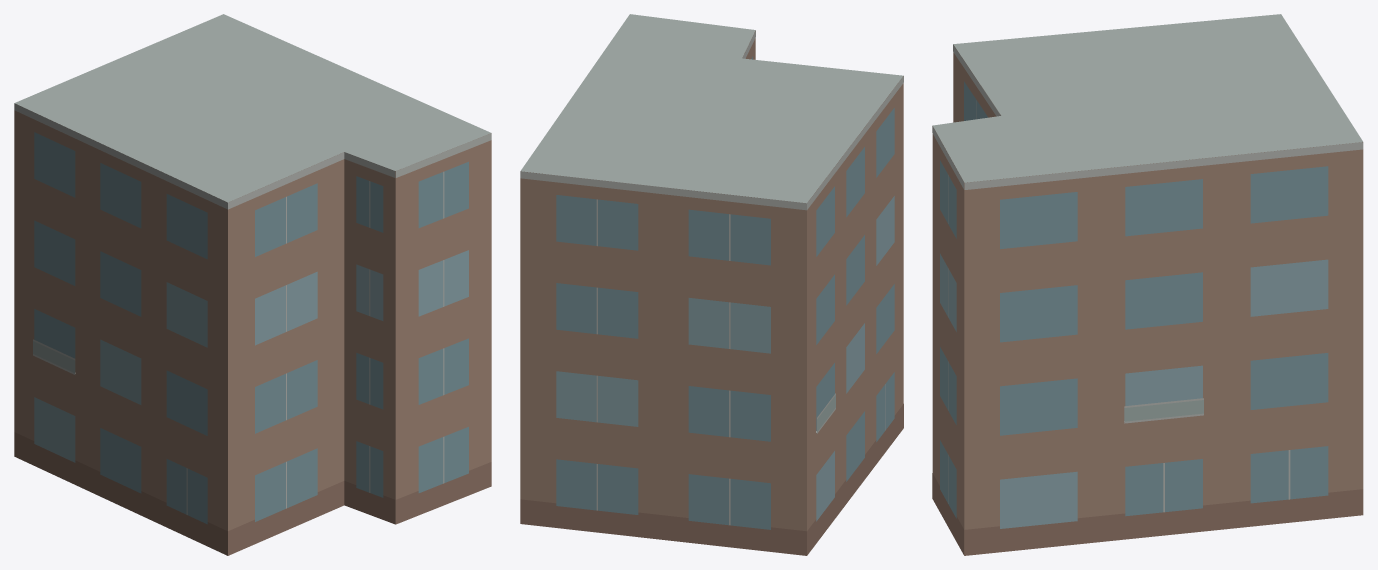
Rendered from residential-604e09a0-bd6f-4f23-ab9e-023151120af3.glb.
3 views of the same model, side by side, from view 1: azimuth 30°, elevation 25°; view 2: azimuth 150°, elevation 25°; view 3: azimuth 270°, elevation 25° (orthographic). The views are drawn at different scales.
Parts seen in each view (by area): view 1: residential-604e09a0-bd6f-4f23-ab9e-023151120af3.tmp; view 2: residential-604e09a0-bd6f-4f23-ab9e-023151120af3.tmp; view 3: residential-604e09a0-bd6f-4f23-ab9e-023151120af3.tmp.
Boxes of the visible parts, bbox=[...] form: residential-604e09a0-bd6f-4f23-ab9e-023151120af3.tmp: bbox=[14, 14, 491, 555]; residential-604e09a0-bd6f-4f23-ab9e-023151120af3.tmp: bbox=[520, 14, 903, 555]; residential-604e09a0-bd6f-4f23-ab9e-023151120af3.tmp: bbox=[932, 14, 1363, 555].
Size of the model in its own units: 11.84 by 12.2 by 12.78.
